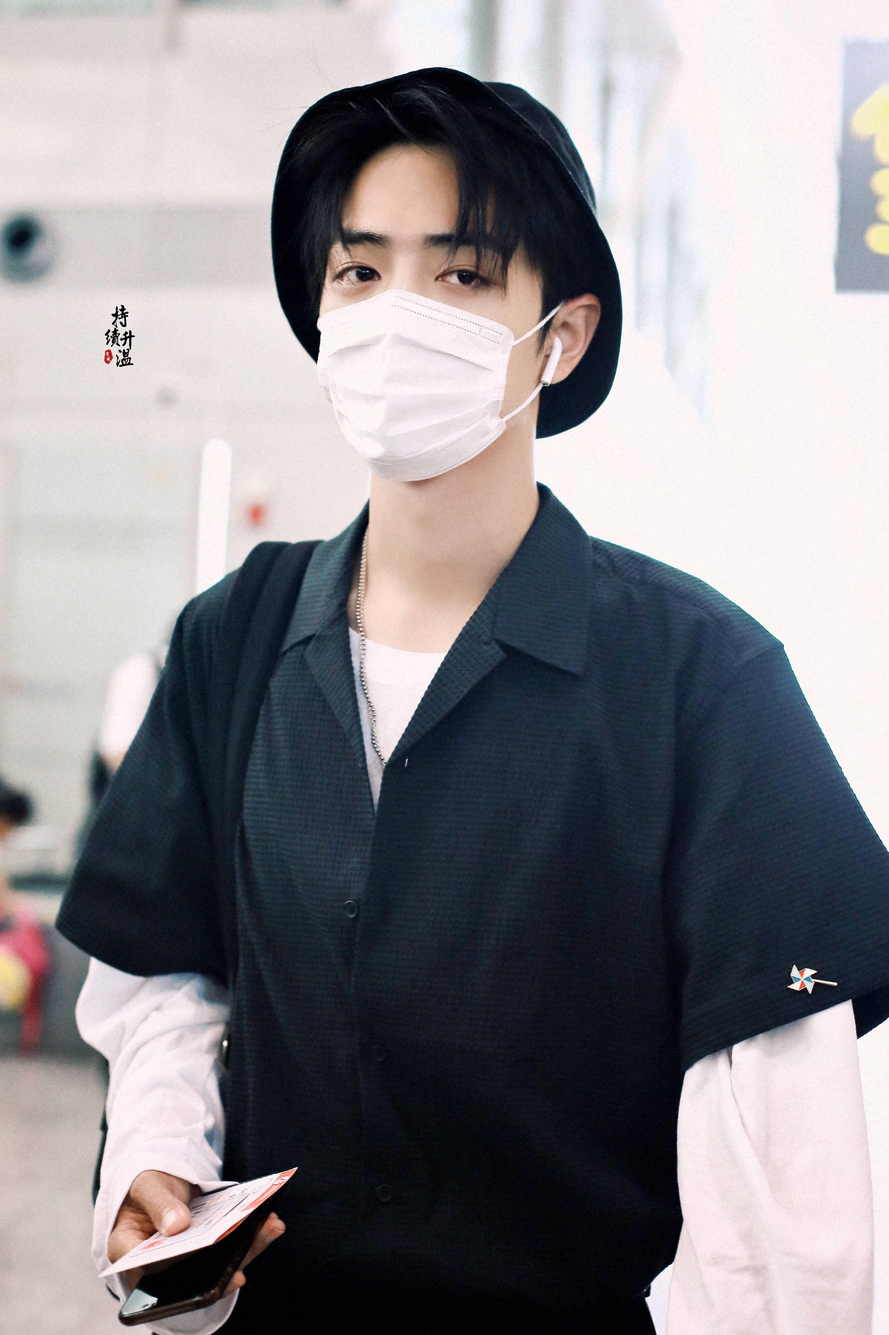OK: (317, 198, 539, 479)
